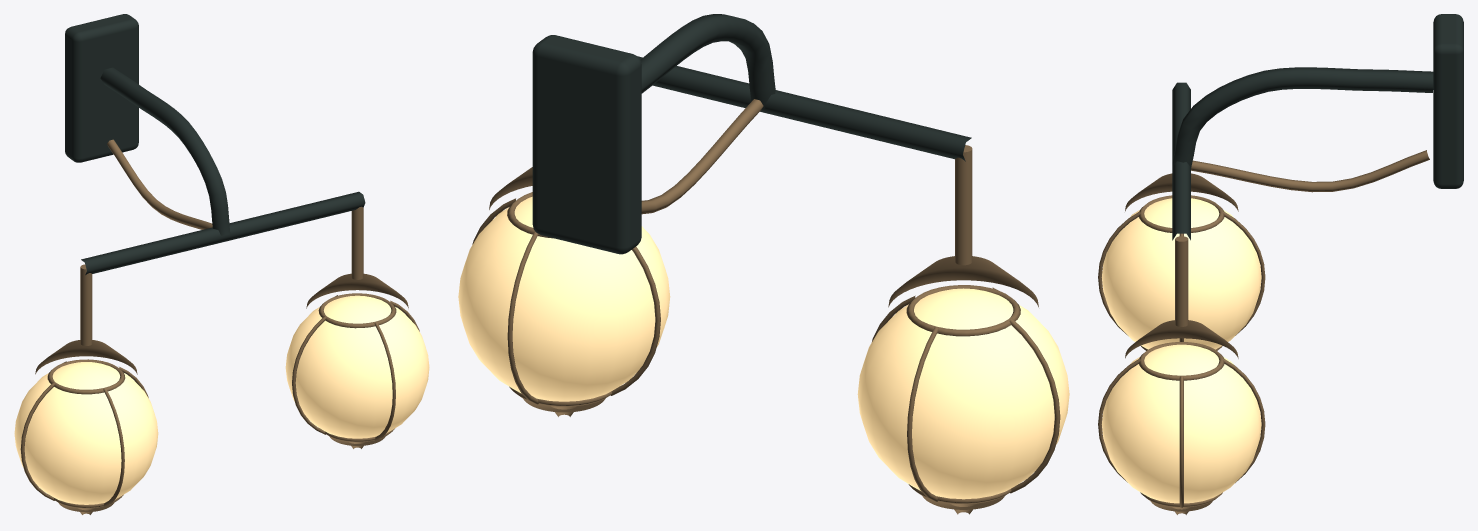
Rendered from twin-street-lamp.glb.
3 views of the same model, side by side, from view 1: azimuth 30°, elevation 25°; view 2: azimuth 150°, elevation 25°; view 3: azimuth 270°, elevation 25° (orthographic). The views are drawn at different scales.
Visible parts, largest first — view 1: Original twin opal wall lamp; view 2: Original twin opal wall lamp; view 3: Original twin opal wall lamp.
Boxes of the visible parts, box(x1,y1,x2,y2) form: Original twin opal wall lamp: box(14, 14, 429, 514); Original twin opal wall lamp: box(458, 14, 1069, 514); Original twin opal wall lamp: box(1098, 14, 1463, 514).
Size of the model in its own units: 1.1 by 0.968 by 0.7779.
